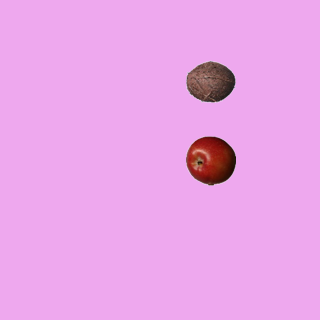Apple Braeburn: (185, 135, 235, 185)
Cocos: (185, 56, 235, 106)
